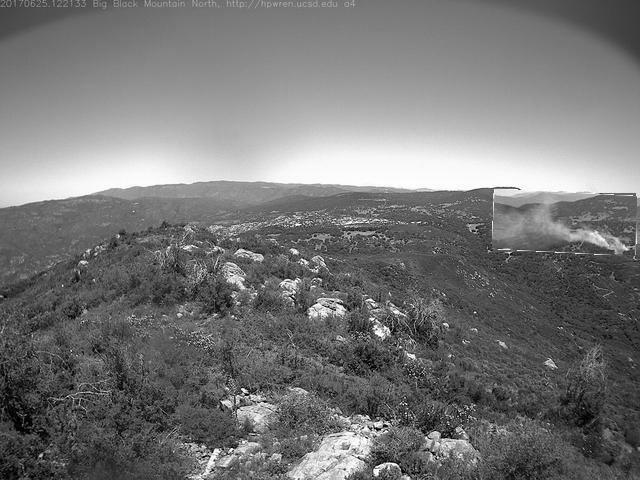smoke: (494, 192, 639, 256)
